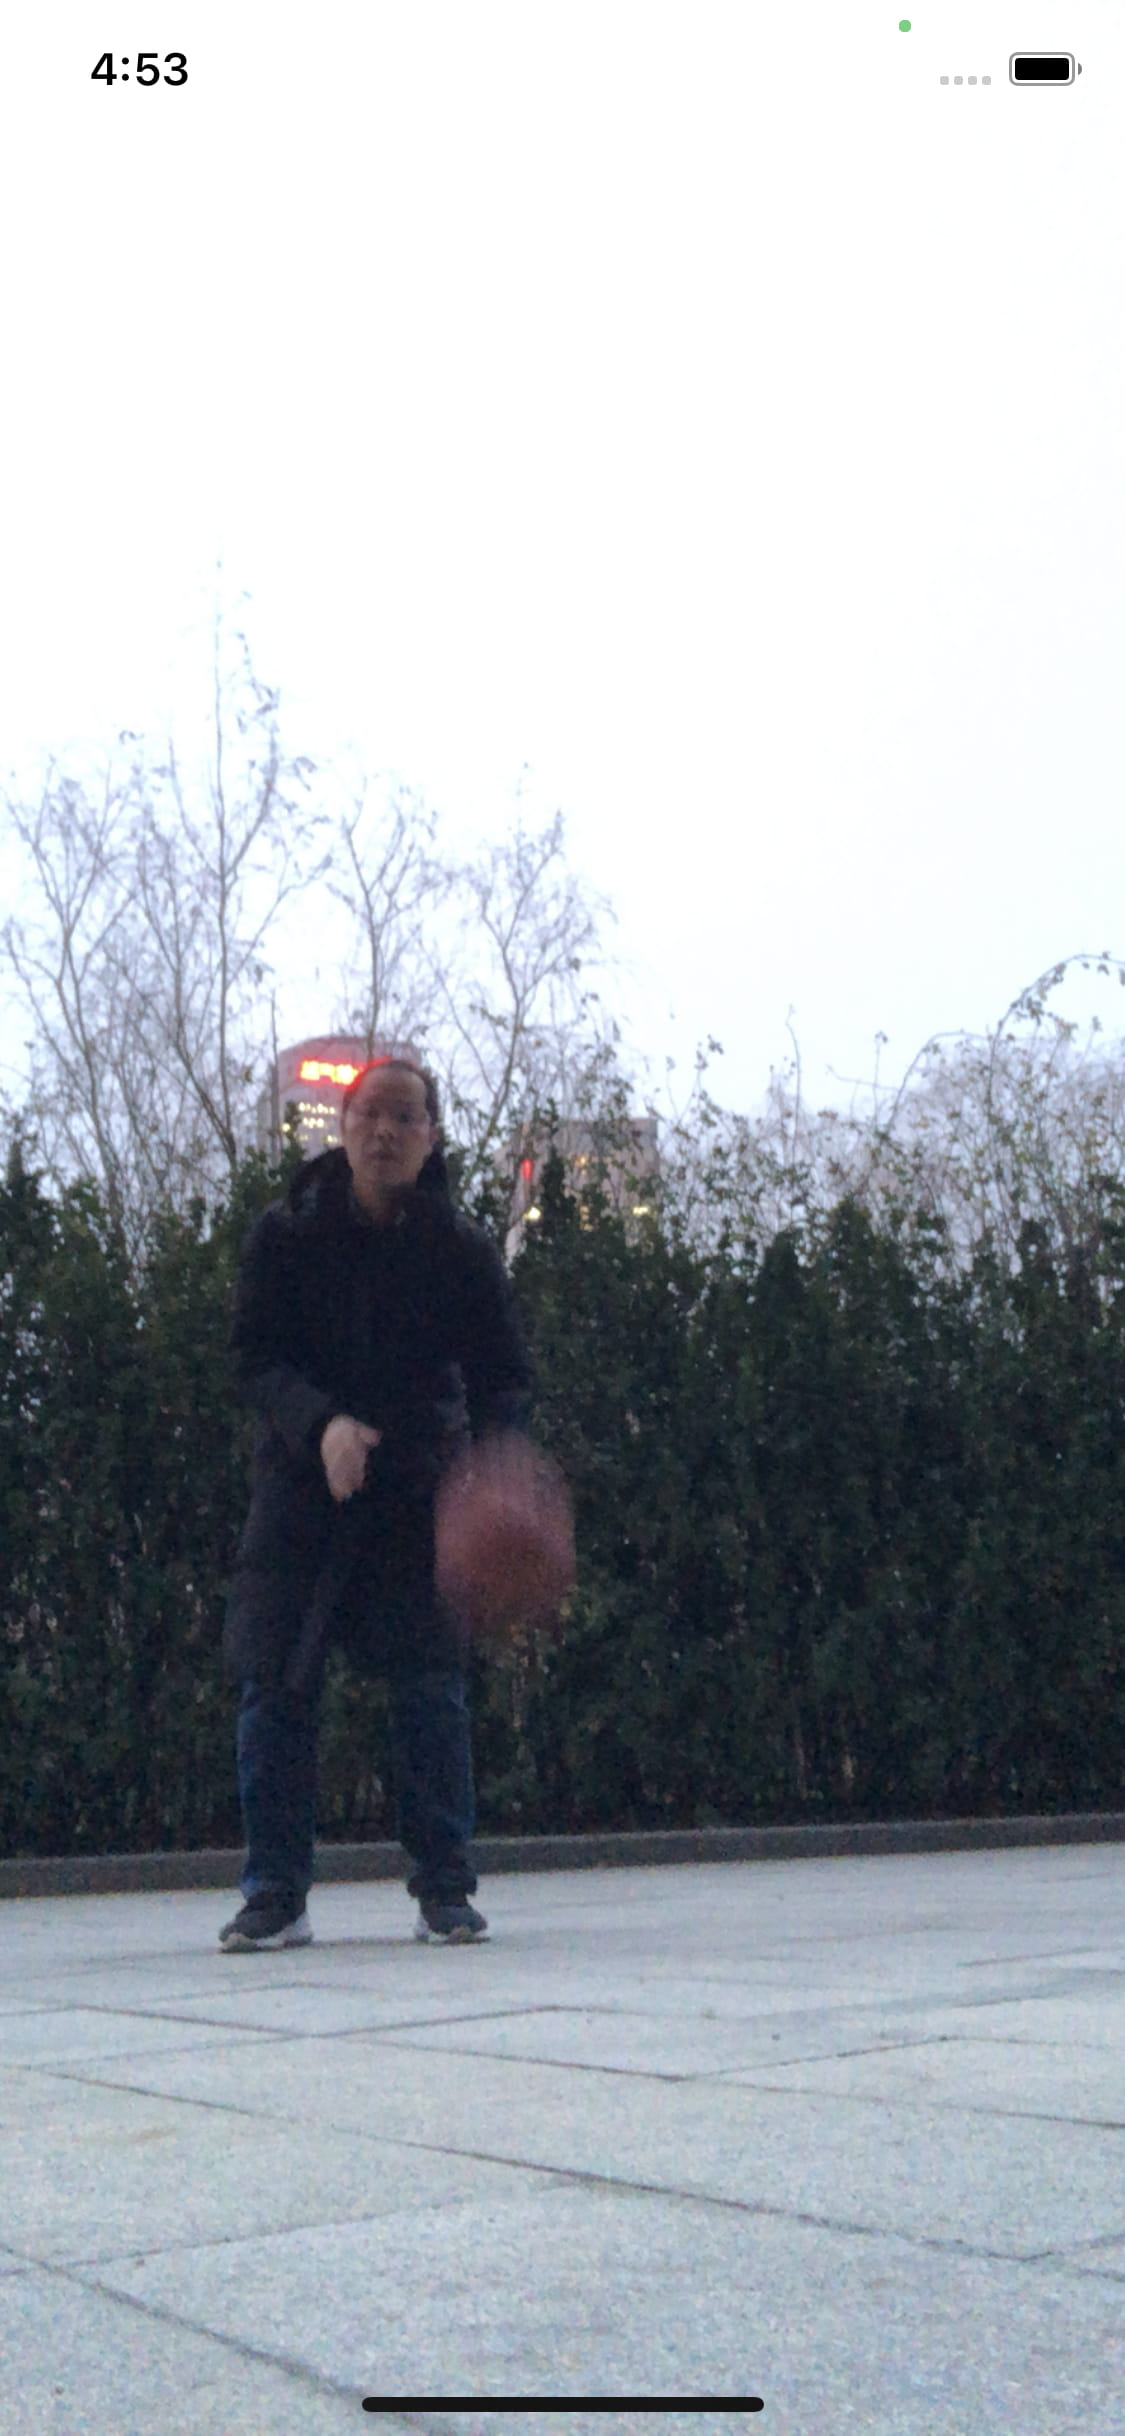ball: (435, 1459, 580, 1631)
